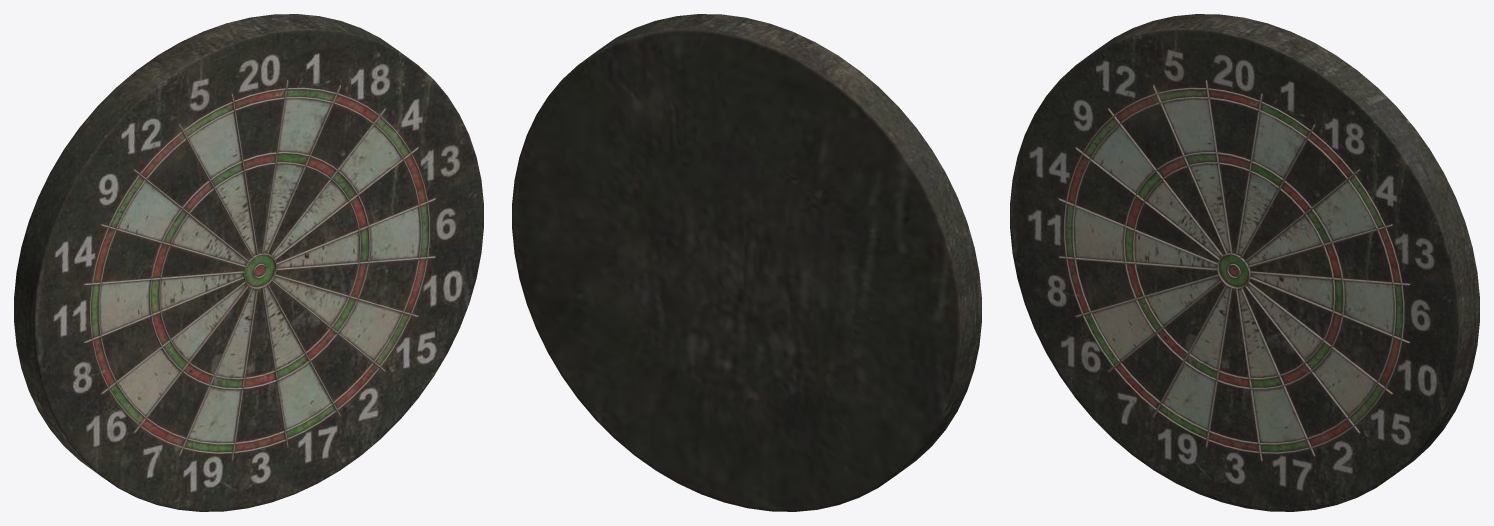
The picture shows the model from 3 angles, left to right: view 1: azimuth 30°, elevation 25°; view 2: azimuth 150°, elevation 25°; view 3: azimuth 330°, elevation 25°; orthographic projection.
Parts seen in each view (by area): view 1: dartboard; view 2: dartboard; view 3: dartboard.
Part boxes in pixels (<box>): dartboard: <box>14,14,483,511</box>; dartboard: <box>512,14,981,511</box>; dartboard: <box>1010,14,1479,511</box>.
Size of the model in its own units: 0.4507 by 0.4507 by 0.0398.
Materials: 1 (1 with a texture image).
